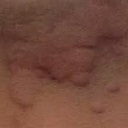Hives: (43, 33, 92, 88), (7, 67, 41, 107)
